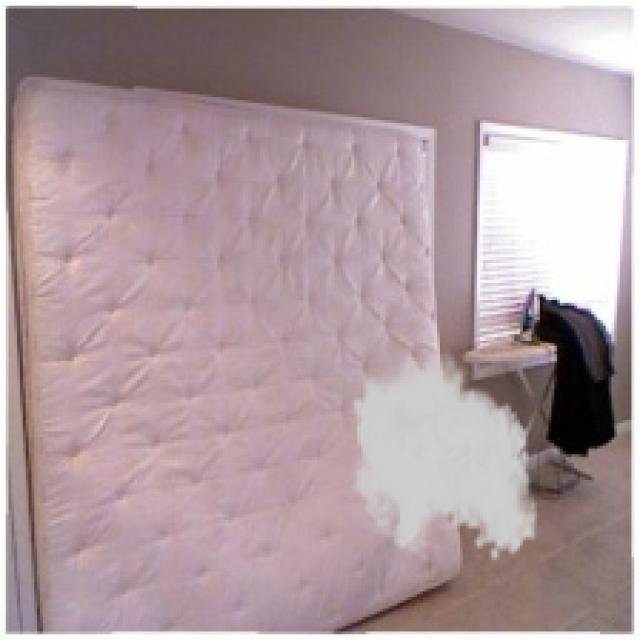Smoke: (340, 346, 540, 563)
